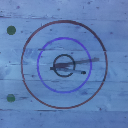Axe Tip: (55, 66, 68, 69)
